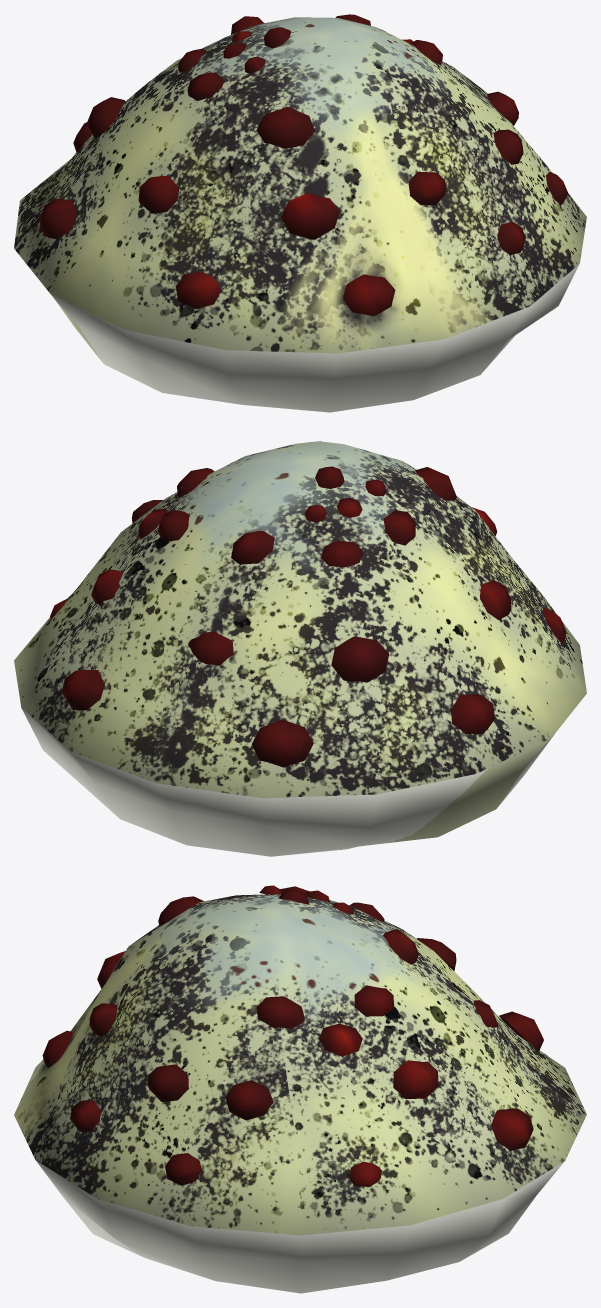
Rendered from aduki.fbx.
3 renders of one model, top to bottom at view 1: azimuth 30°, elevation 25°; view 2: azimuth 150°, elevation 25°; view 3: azimuth 270°, elevation 25°, orthographic.
Parts seen in each view (by area): view 1: bake, bake.013; view 2: bake, bake.013; view 3: bake, bake.013.
Part boxes in pixels (x1,y1,x2,y2): bake: [14, 17, 586, 412]; bake.013: [39, 14, 567, 316]; bake: [14, 441, 586, 856]; bake.013: [50, 466, 566, 767]; bake: [14, 894, 586, 1293]; bake.013: [42, 885, 543, 1186].
Size of the model in its own units: 6.69 by 6.68 by 4.26.
